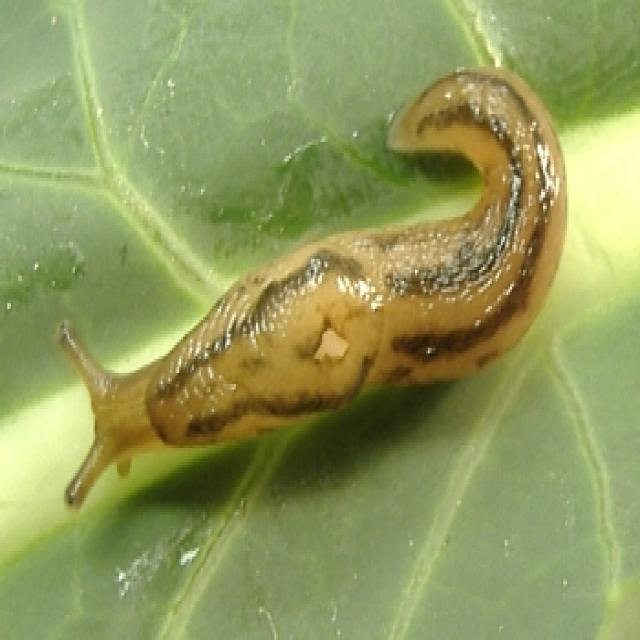slug: (49, 52, 576, 533)
